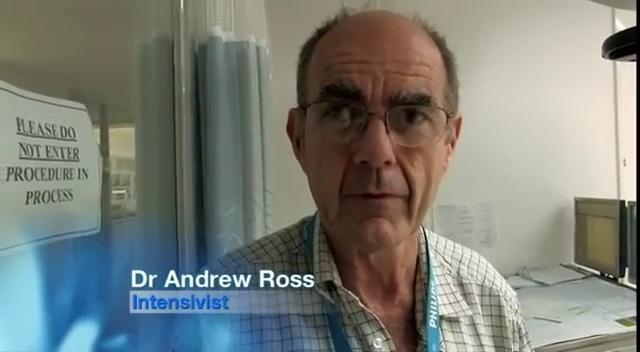doctor: (193, 7, 537, 351)
